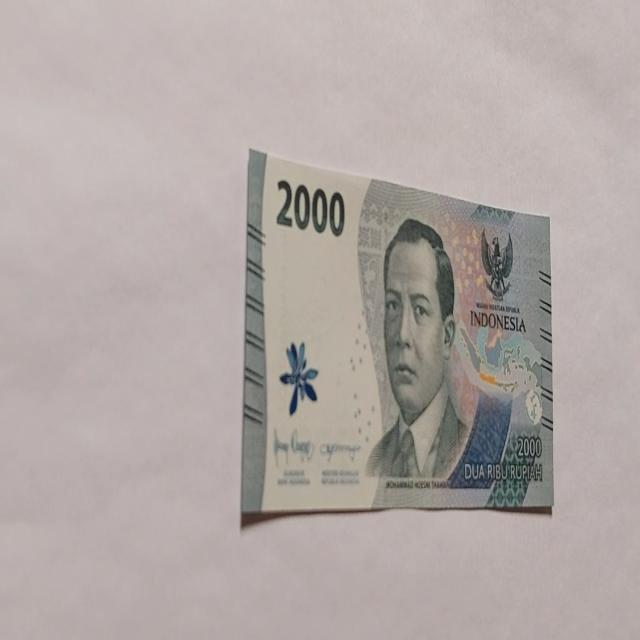dua ribu rupiah: (242, 148, 554, 522), (364, 216, 470, 489)
